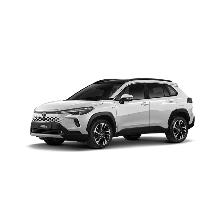NON-EV: (32, 77, 197, 147)
